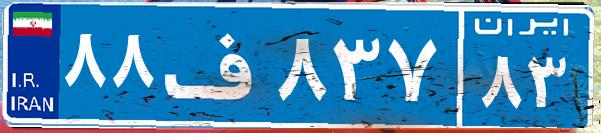3: (330, 28, 385, 110), (525, 38, 570, 115)
7: (385, 28, 445, 110)
8: (273, 28, 330, 110), (57, 26, 110, 107), (475, 38, 525, 113), (110, 28, 158, 105)
ف: (158, 15, 273, 115)
